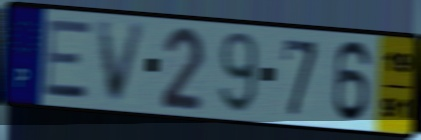2: (161, 24, 207, 114)
6: (331, 39, 372, 125)
7: (280, 36, 320, 118)
9: (215, 29, 261, 116)
E: (41, 19, 93, 101)
V: (95, 21, 150, 107)
